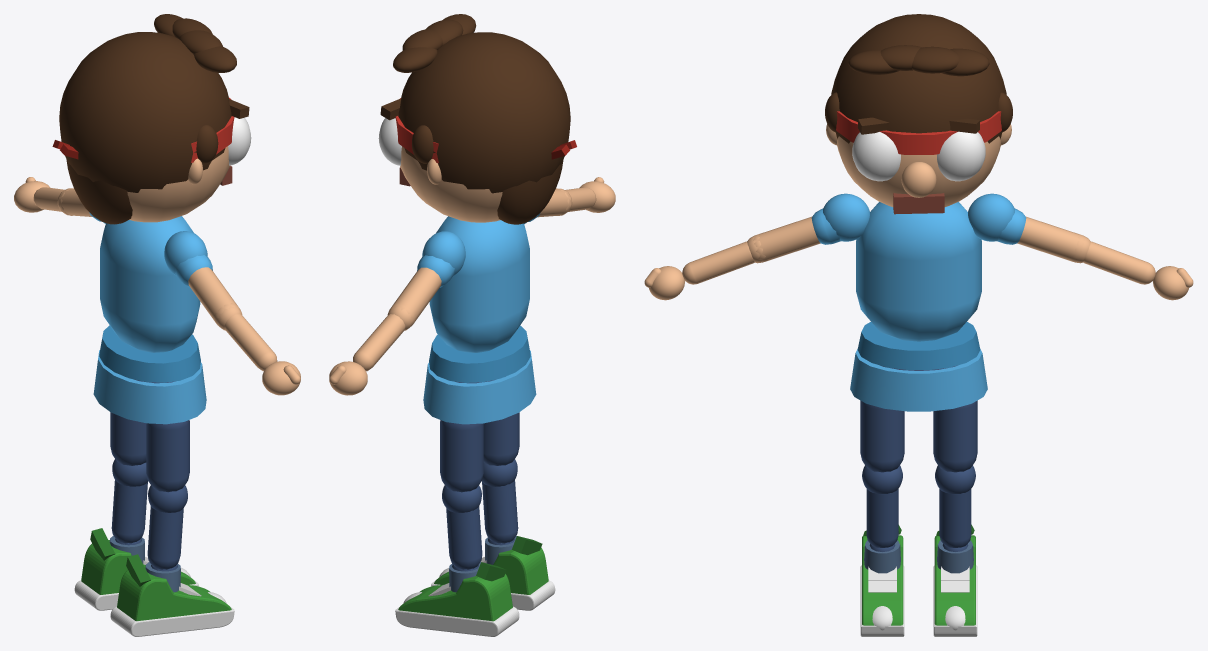
The model's file is spd2.glb.
3 views of the same model, side by side, from view 1: azimuth 30°, elevation 25°; view 2: azimuth 150°, elevation 25°; view 3: azimuth 270°, elevation 25° (orthographic).
Size of the model in its own units: 0.4774 by 1.46 by 1.23.
